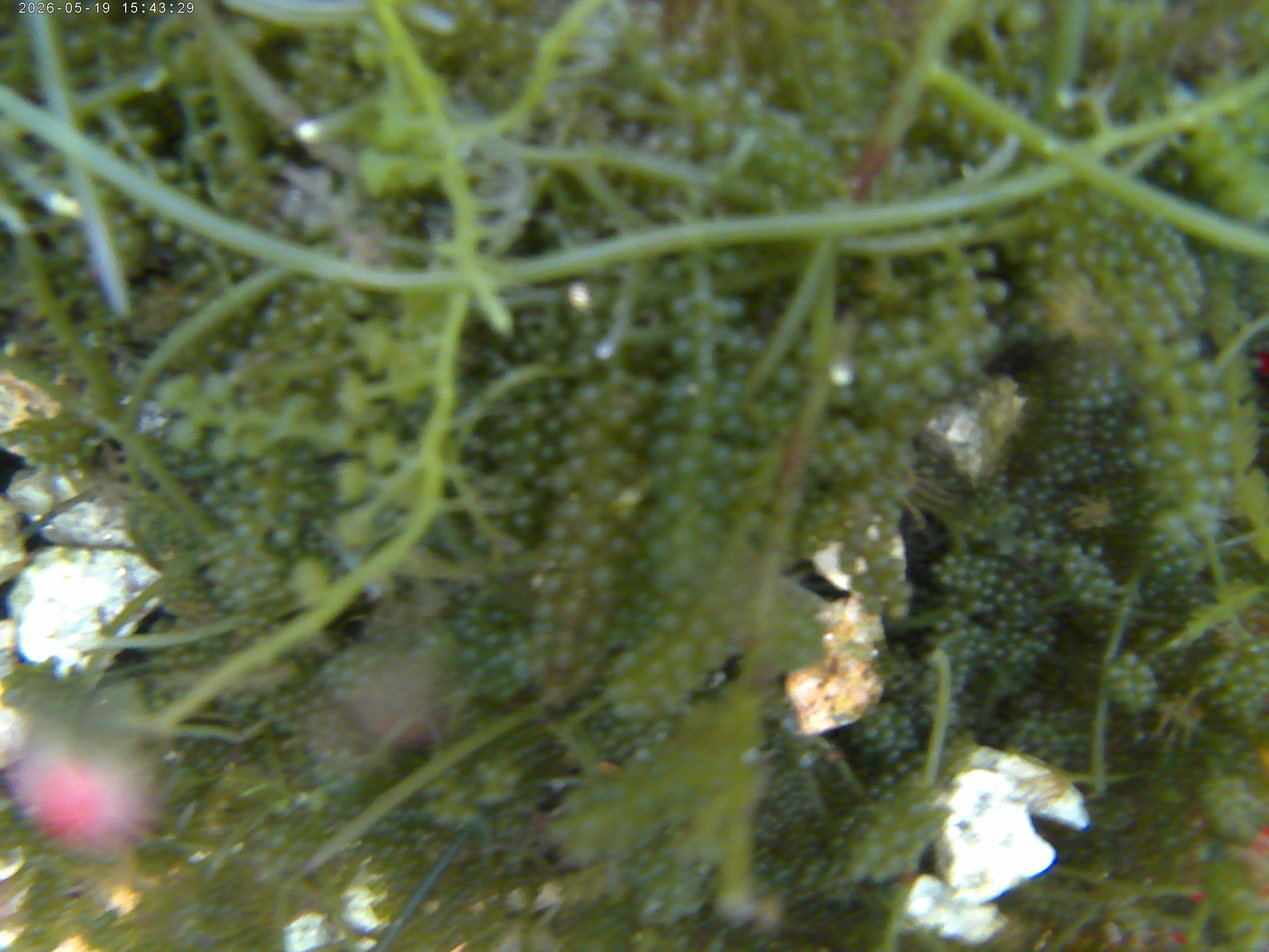Harvestable: (166, 418, 201, 452), (181, 130, 214, 166), (1009, 0, 1043, 33), (614, 88, 648, 121), (737, 93, 770, 124), (701, 122, 732, 154), (351, 38, 382, 70), (202, 373, 233, 405), (237, 19, 269, 49), (666, 640, 697, 670), (210, 434, 240, 465), (657, 490, 689, 519), (574, 380, 606, 409), (881, 379, 913, 408), (648, 461, 676, 492), (651, 432, 680, 461), (590, 561, 619, 590), (63, 30, 92, 59), (578, 423, 606, 453), (647, 534, 675, 564), (239, 430, 267, 460), (693, 82, 722, 110), (1190, 360, 1219, 388), (864, 320, 892, 348), (1195, 388, 1224, 415), (581, 520, 610, 547), (117, 227, 146, 254), (532, 598, 562, 624), (583, 611, 609, 641), (566, 540, 593, 568), (897, 318, 925, 345), (568, 350, 595, 378), (1171, 411, 1200, 437), (689, 411, 719, 436), (775, 364, 802, 391), (604, 404, 631, 431), (559, 595, 586, 622), (1205, 422, 1232, 449), (893, 413, 921, 439), (859, 362, 885, 389), (638, 49, 665, 75), (918, 362, 943, 390), (716, 249, 742, 275), (670, 131, 696, 157), (552, 645, 578, 671), (1178, 456, 1204, 482), (496, 34, 522, 60), (593, 473, 618, 500), (677, 456, 704, 481), (658, 609, 685, 634), (658, 403, 685, 428), (558, 499, 585, 524), (1053, 226, 1078, 252), (626, 420, 651, 446), (710, 442, 735, 468), (756, 71, 781, 97), (213, 188, 239, 213), (670, 585, 694, 612), (345, 291, 372, 315), (978, 322, 1002, 349), (1152, 437, 1180, 460), (263, 305, 288, 330), (566, 453, 591, 478), (603, 446, 628, 471), (356, 16, 381, 41), (804, 39, 829, 64), (695, 475, 721, 499), (890, 352, 917, 375), (671, 527, 695, 552), (948, 119, 972, 144), (550, 470, 575, 494), (632, 376, 657, 400), (606, 366, 631, 390), (619, 650, 643, 675), (983, 279, 1009, 302), (616, 678, 642, 701), (550, 625, 575, 648), (717, 70, 740, 95), (608, 533, 631, 558), (932, 373, 955, 398), (1099, 199, 1124, 222), (272, 526, 298, 548), (928, 104, 949, 131), (932, 306, 956, 329), (561, 402, 585, 425), (1027, 241, 1050, 265), (828, 443, 852, 466), (544, 571, 568, 594), (864, 840, 887, 864), (889, 827, 913, 850), (724, 332, 748, 355), (328, 62, 352, 85), (884, 851, 907, 875), (847, 859, 871, 882), (1207, 450, 1229, 475), (1247, 133, 1269, 158), (975, 245, 994, 273), (957, 356, 980, 379), (842, 143, 865, 166), (734, 449, 757, 472), (578, 316, 601, 339), (1031, 211, 1054, 234), (1158, 251, 1181, 274), (858, 449, 881, 472), (692, 285, 715, 308), (636, 17, 659, 40), (660, 260, 683, 283), (1125, 297, 1149, 319), (526, 399, 548, 423), (528, 654, 550, 678), (234, 520, 259, 541), (710, 297, 731, 322), (1135, 223, 1158, 245), (673, 338, 696, 360), (647, 658, 669, 681), (697, 366, 720, 388), (766, 147, 788, 170), (784, 149, 807, 171), (841, 457, 863, 480), (1068, 193, 1090, 216), (811, 69, 834, 91), (261, 453, 284, 475), (187, 261, 210, 283), (1168, 340, 1189, 364), (1161, 368, 1185, 389), (951, 338, 975, 359), (594, 587, 618, 608), (669, 297, 691, 319), (650, 681, 672, 703), (858, 572, 880, 594), (714, 392, 736, 414), (1233, 114, 1255, 136), (672, 42, 694, 64), (782, 169, 804, 191), (1188, 478, 1211, 499), (511, 658, 532, 681), (834, 387, 857, 408), (614, 603, 635, 626), (804, 179, 827, 200), (263, 555, 286, 576), (1140, 397, 1166, 415), (1123, 424, 1145, 445), (519, 429, 540, 451), (233, 464, 255, 485), (723, 413, 744, 435), (1156, 299, 1177, 321), (1142, 282, 1164, 303), (249, 331, 271, 352), (1076, 247, 1097, 269), (955, 262, 976, 284), (231, 585, 253, 606), (1110, 327, 1132, 348), (870, 552, 892, 573), (968, 142, 991, 162), (1146, 320, 1165, 344), (287, 492, 308, 513), (689, 619, 710, 640), (560, 432, 581, 453), (693, 317, 714, 338), (295, 279, 316, 300), (834, 417, 855, 438), (1083, 216, 1105, 236), (546, 541, 568, 561), (534, 626, 553, 649), (214, 475, 235, 495), (1127, 449, 1147, 470), (631, 557, 652, 577), (1009, 322, 1030, 342), (1122, 250, 1142, 271), (967, 301, 987, 322), (503, 412, 524, 432), (1211, 477, 1233, 496), (285, 467, 304, 489), (514, 492, 536, 511), (227, 504, 250, 522), (1180, 298, 1200, 318), (500, 438, 520, 458), (177, 233, 197, 253), (631, 588, 651, 608), (1163, 315, 1183, 335), (339, 665, 359, 685), (889, 601, 909, 621), (287, 80, 307, 100), (546, 522, 567, 541), (612, 701, 633, 720), (1100, 250, 1119, 270), (540, 445, 560, 464), (461, 645, 481, 664), (860, 298, 879, 318), (1124, 272, 1143, 292), (308, 375, 328, 394), (771, 404, 791, 423), (1166, 273, 1184, 294), (724, 378, 745, 396), (462, 0, 485, 16), (331, 685, 350, 704), (513, 511, 533, 529), (729, 360, 749, 378), (514, 639, 534, 657), (499, 479, 519, 497), (221, 553, 241, 571), (152, 222, 173, 239), (1065, 573, 1087, 589), (159, 160, 178, 178), (544, 416, 562, 435), (647, 597, 666, 615), (251, 576, 270, 594), (805, 160, 823, 179), (1026, 265, 1045, 283), (633, 611, 652, 629), (112, 212, 131, 230), (895, 582, 913, 601), (830, 524, 849, 542), (611, 722, 630, 740), (521, 459, 538, 479), (1074, 394, 1092, 412), (621, 122, 639, 140), (673, 64, 691, 82), (289, 298, 307, 316), (315, 280, 333, 298), (484, 630, 503, 647), (1150, 240, 1167, 258), (913, 394, 930, 412), (1065, 543, 1083, 560), (534, 474, 552, 491), (1138, 692, 1155, 710), (546, 379, 564, 396), (1105, 664, 1123, 681), (228, 321, 246, 338), (322, 660, 340, 677), (508, 627, 526, 644), (1040, 521, 1057, 539), (1152, 418, 1173, 432), (257, 488, 274, 505), (497, 648, 514, 665), (1148, 457, 1165, 474), (1252, 654, 1269, 671), (543, 349, 560, 366), (490, 608, 507, 625), (53, 429, 70, 446), (1046, 544, 1063, 561), (1243, 640, 1261, 656), (1069, 375, 1087, 391), (1076, 412, 1094, 428), (629, 720, 647, 736), (1141, 260, 1156, 279), (1122, 652, 1138, 669), (205, 490, 221, 507), (1087, 378, 1104, 394), (278, 692, 295, 708), (470, 665, 487, 681), (464, 624, 481, 640), (970, 557, 988, 572), (1235, 663, 1251, 679), (1092, 563, 1108, 579), (272, 291, 289, 306), (958, 646, 975, 661), (441, 0, 460, 13), (1097, 393, 1112, 409), (1137, 665, 1152, 681), (968, 599, 984, 614), (880, 772, 896, 787), (958, 380, 974, 395), (259, 700, 275, 715), (283, 510, 299, 525), (1063, 560, 1080, 574), (1116, 677, 1133, 691), (968, 579, 983, 594), (1228, 682, 1243, 697), (1254, 671, 1269, 686), (863, 725, 878, 740), (882, 702, 897, 717), (294, 701, 309, 716), (1079, 590, 1095, 604), (984, 572, 1000, 586), (1089, 543, 1104, 557), (942, 554, 957, 568), (1211, 658, 1226, 672), (1204, 675, 1219, 689), (1158, 564, 1173, 578), (897, 714, 912, 728), (1224, 705, 1239, 719), (1036, 746, 1051, 760), (954, 578, 969, 592), (934, 619, 949, 633), (1088, 236, 1103, 250), (979, 585, 995, 598), (1072, 360, 1086, 374), (1149, 549, 1163, 563), (1135, 682, 1149, 696), (1030, 732, 1044, 746), (1221, 692, 1235, 706), (887, 749, 901, 763), (941, 573, 954, 588), (1090, 577, 1103, 592), (970, 625, 983, 640), (1024, 719, 1039, 732), (977, 642, 992, 655), (1062, 423, 1075, 437), (1034, 451, 1048, 464), (1096, 595, 1109, 609), (1079, 468, 1093, 481), (878, 714, 891, 728), (1049, 733, 1063, 746), (1058, 440, 1071, 454), (1239, 697, 1253, 710), (883, 728, 896, 741), (1041, 722, 1054, 735), (278, 709, 291, 722), (1244, 681, 1257, 694), (1058, 472, 1072, 484), (929, 565, 945, 575), (1077, 448, 1090, 460), (1013, 485, 1025, 498), (1103, 579, 1115, 592), (948, 610, 961, 622), (1049, 446, 1062, 458), (1090, 452, 1102, 465), (954, 566, 967, 578), (1114, 457, 1127, 469), (970, 507, 982, 519), (1002, 580, 1014, 592), (1012, 591, 1024, 603), (1066, 455, 1077, 468), (1040, 474, 1053, 485), (1012, 606, 1025, 617), (995, 593, 1006, 605), (1054, 461, 1065, 473), (1175, 560, 1187, 571), (1110, 446, 1121, 458), (1101, 430, 1112, 442), (1030, 709, 1042, 720), (1065, 411, 1076, 422), (956, 630, 967, 641), (1064, 398, 1074, 410), (989, 485, 1001, 495), (1106, 418, 1116, 429), (998, 475, 1009, 485)
